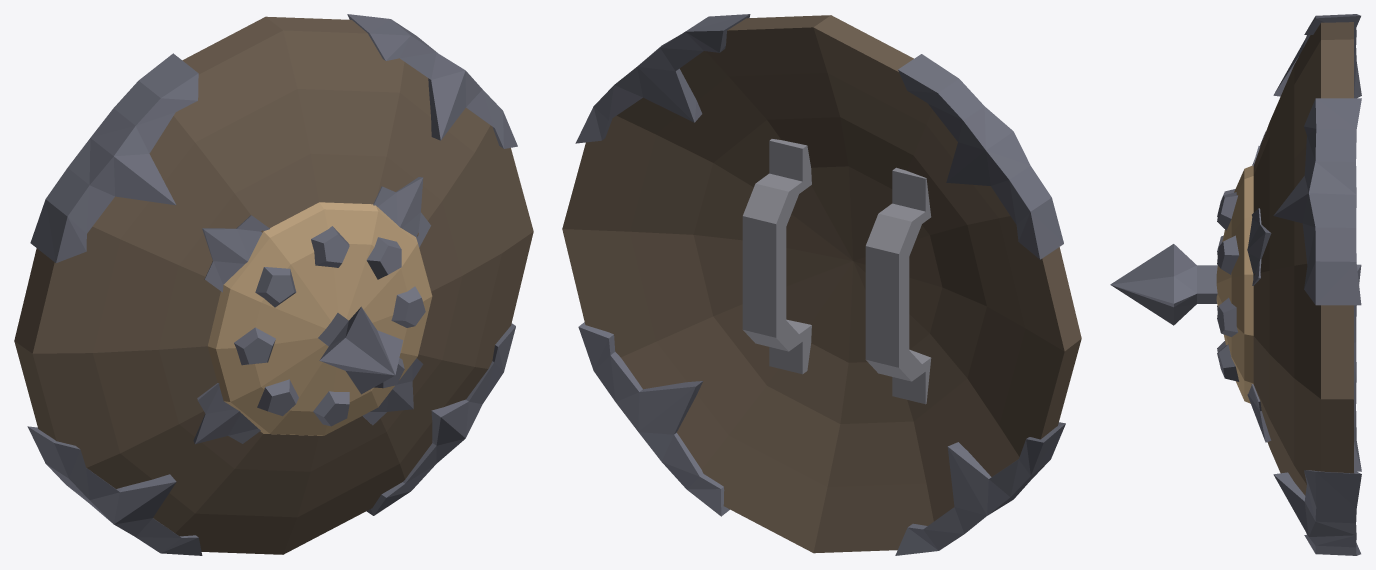
File: shield_shield_2.glb
3 renders of one model, left to right at view 1: azimuth 30°, elevation 25°; view 2: azimuth 150°, elevation 25°; view 3: azimuth 270°, elevation 25°, orthographic. The views are drawn at different scales.
Visible parts, largest first — view 1: shield_2; view 2: shield_2; view 3: shield_2.
Part boxes in pixels (left/top/right/bottom): shield_2: left=14, top=14, right=533, bottom=555; shield_2: left=562, top=14, right=1081, bottom=555; shield_2: left=1110, top=14, right=1361, bottom=555.
Size of the model in its own units: 63.68 by 63.68 by 29.6.
Materials: 1 (1 with a texture image).
